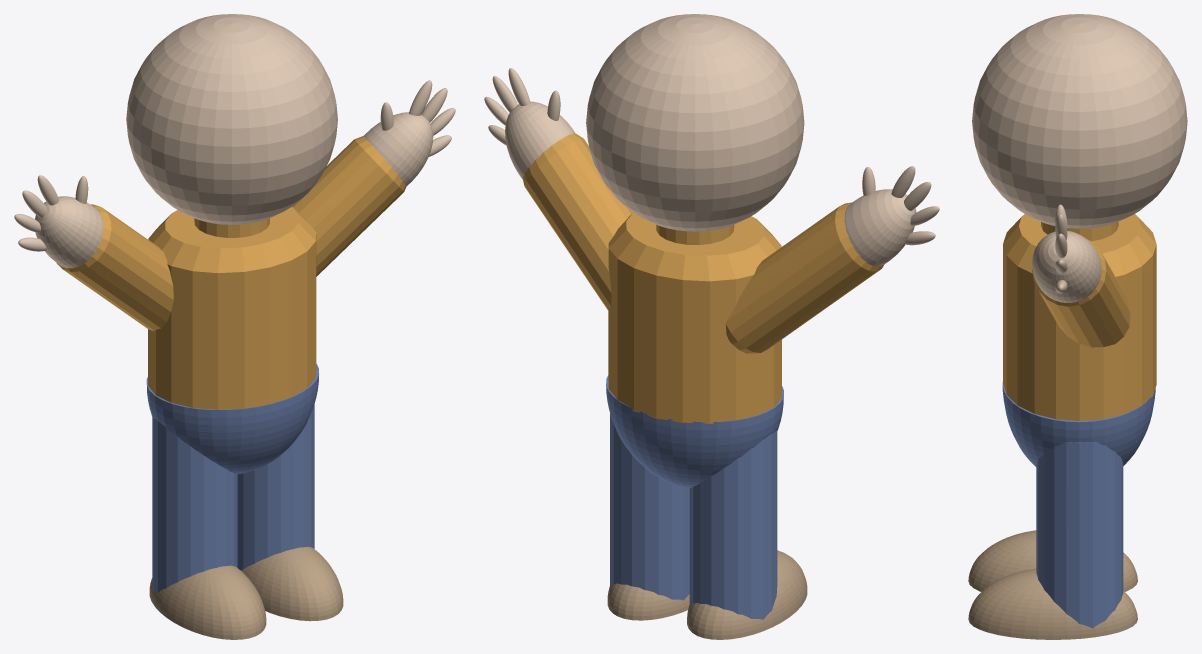
The model's file is alejandroAnimado.glb.
The picture shows the model from 3 angles, left to right: view 1: azimuth 30°, elevation 25°; view 2: azimuth 150°, elevation 25°; view 3: azimuth 270°, elevation 25°; orthographic projection. The views are drawn at different scales.
Visible parts, largest first — view 1: Mesh_Mesh_head_geo.001_lambert2SG.001; view 2: Mesh_Mesh_head_geo.001_lambert2SG.001; view 3: Mesh_Mesh_head_geo.001_lambert2SG.001.
Boxes of the visible parts, <box> form: Mesh_Mesh_head_geo.001_lambert2SG.001: <box>14,14,455,639</box>; Mesh_Mesh_head_geo.001_lambert2SG.001: <box>484,14,939,639</box>; Mesh_Mesh_head_geo.001_lambert2SG.001: <box>968,14,1187,639</box>.
Bounding box in the file's own units: 26.83 × 32.92 × 11.35.
